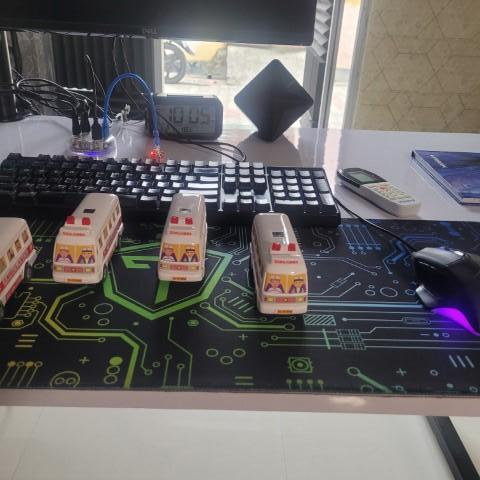ambulance: (51, 187, 126, 285), (246, 208, 311, 320), (158, 191, 213, 286)
